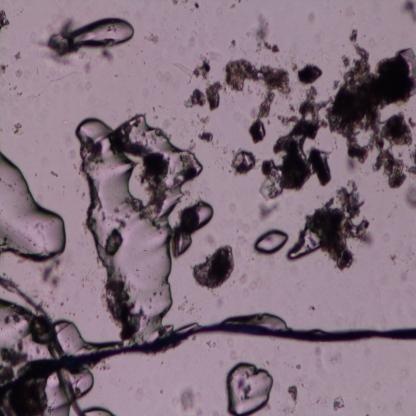Air bubble: (72, 103, 200, 330), (0, 150, 67, 262), (60, 15, 134, 55), (225, 358, 274, 416), (52, 320, 105, 356), (286, 230, 320, 263), (253, 228, 289, 256), (196, 200, 215, 227)
Background material: (335, 26, 416, 203), (256, 88, 335, 198), (306, 182, 372, 274), (0, 347, 53, 414), (223, 57, 292, 99), (102, 276, 144, 344), (134, 139, 170, 204), (192, 244, 234, 294), (248, 92, 275, 145), (48, 16, 77, 63), (181, 80, 225, 110), (253, 16, 282, 54), (175, 382, 207, 416), (290, 58, 326, 87), (193, 108, 216, 150), (249, 192, 278, 223), (229, 148, 259, 175), (0, 48, 23, 81), (40, 258, 61, 288), (181, 207, 201, 238), (183, 57, 211, 78), (106, 227, 124, 258), (325, 391, 347, 414), (138, 24, 162, 45), (4, 113, 23, 137), (286, 381, 302, 409), (400, 0, 416, 25), (0, 7, 13, 28), (383, 251, 399, 268), (225, 36, 239, 52), (185, 2, 203, 14), (230, 197, 236, 215)
Cotton: (23, 316, 416, 380)
